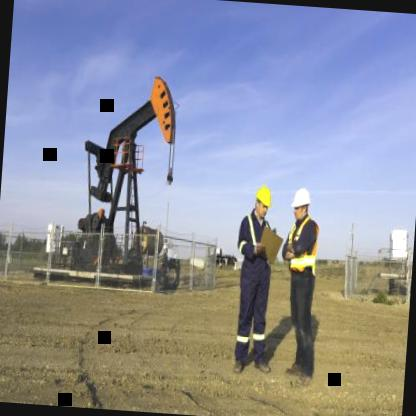helmet: (252, 180, 276, 222), (289, 186, 313, 224)
